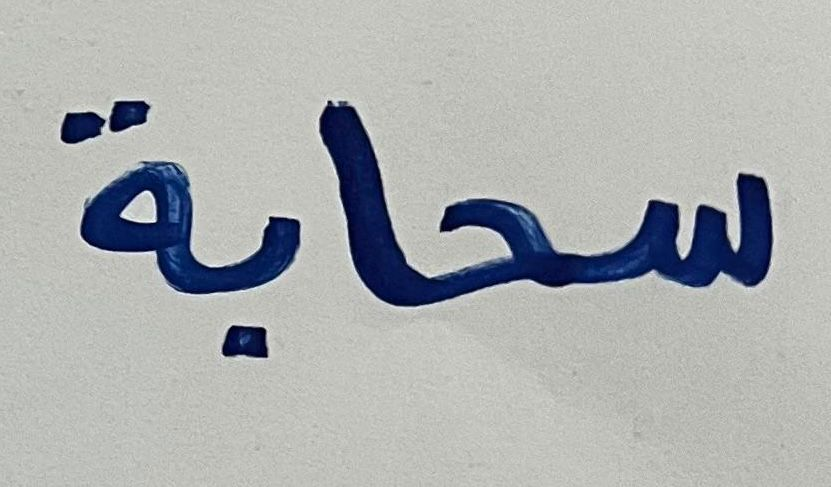alef: (314, 71, 422, 332)
beh: (206, 189, 307, 397)
hah: (428, 160, 574, 333)
seen: (581, 148, 787, 332)
teh_marbota: (36, 78, 201, 353)
